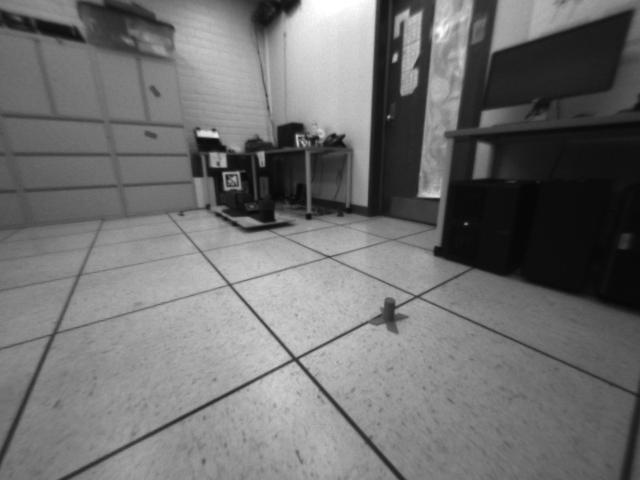X: (367, 296, 409, 335)
